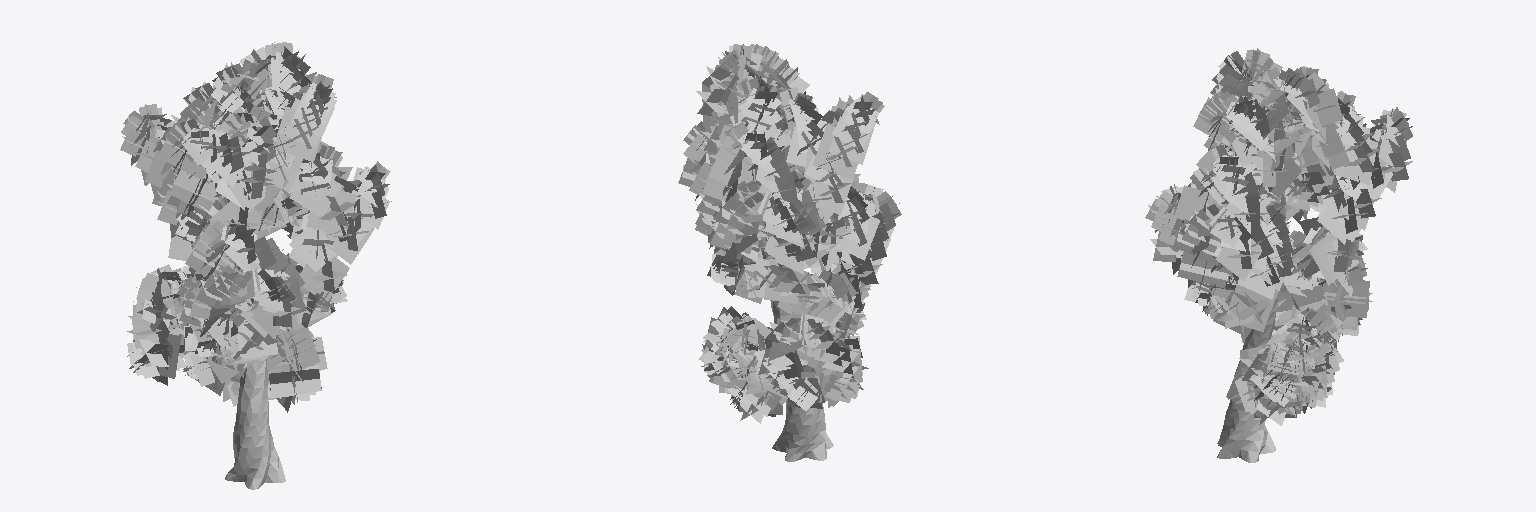
File: TwistedTree_4.obj
3 renders of one model, left to right at view 1: azimuth 30°, elevation 25°; view 2: azimuth 150°, elevation 25°; view 3: azimuth 270°, elevation 25°, orthographic.
Visible parts, largest first — view 1: TwistedTree_4; view 2: TwistedTree_4; view 3: TwistedTree_4.
Part boxes in pixels (x1,y1,x2,y2): TwistedTree_4: (120,42,391,489); TwistedTree_4: (678,44,901,461); TwistedTree_4: (1145,48,1412,462).
Bounding box in the file's own units: 10.38 × 18.74 × 11.29.